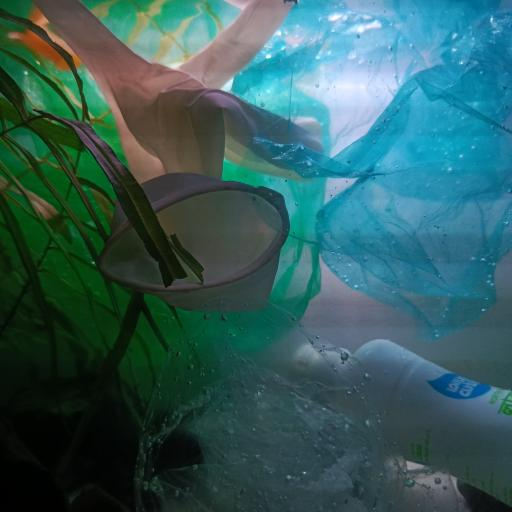glove: (32, 0, 322, 313)
plastic_bag: (233, 0, 512, 339), (134, 297, 463, 512)
plastic_bottle: (290, 340, 512, 510)
